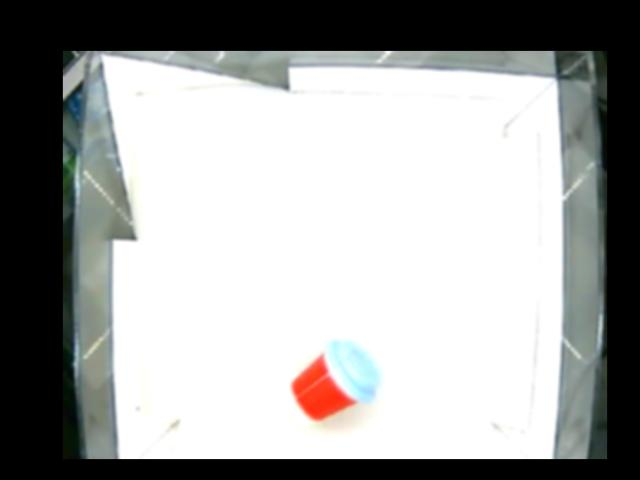Cup: (283, 337, 380, 425)
